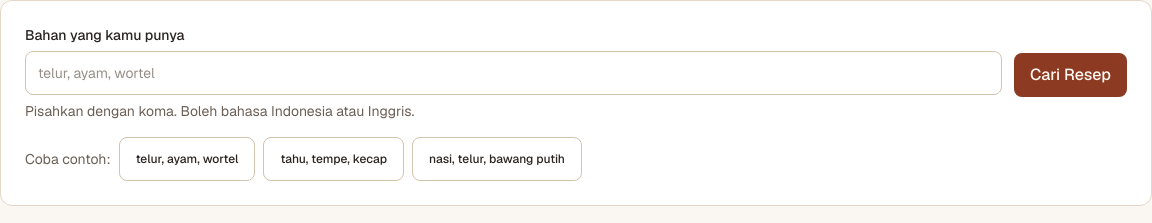
Test: IngredientInput › error hilang setelah input valid dikirim
Click the button "Cari Resep".
click(1070, 75)  # box [1014,53,1127,97]
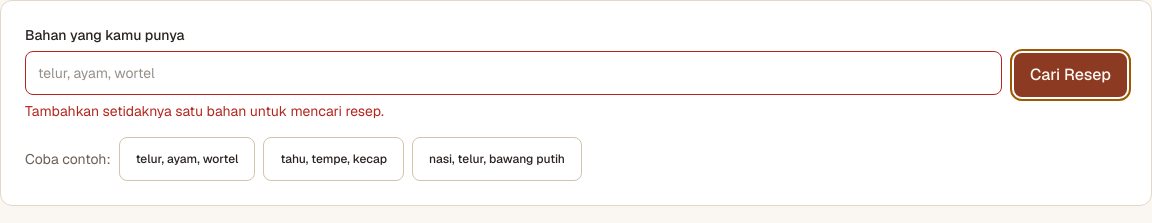
Now the message "Tambahkan setidaknya satu bahan untuk mencari resep." is shown, box [25,102,384,120]
Type "telur" into the field labelled "Bahan yang kamu punya".
click(513, 73); type("telur")  # box [25,51,1002,95]
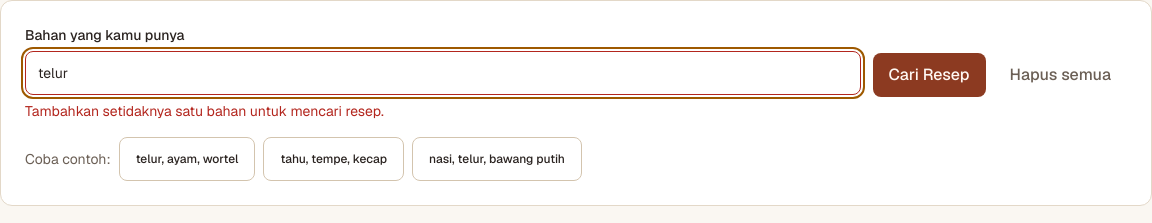
Click the button "Cari Resep".
click(929, 75)  # box [872,53,986,97]
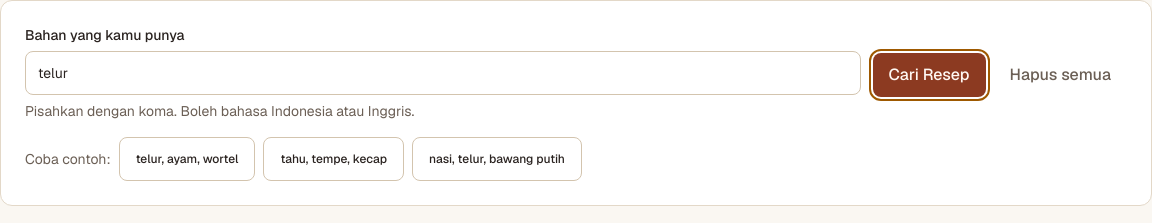
Now the message "Tambahkan setidaknya satu bahan untuk mencari resep." is gone
